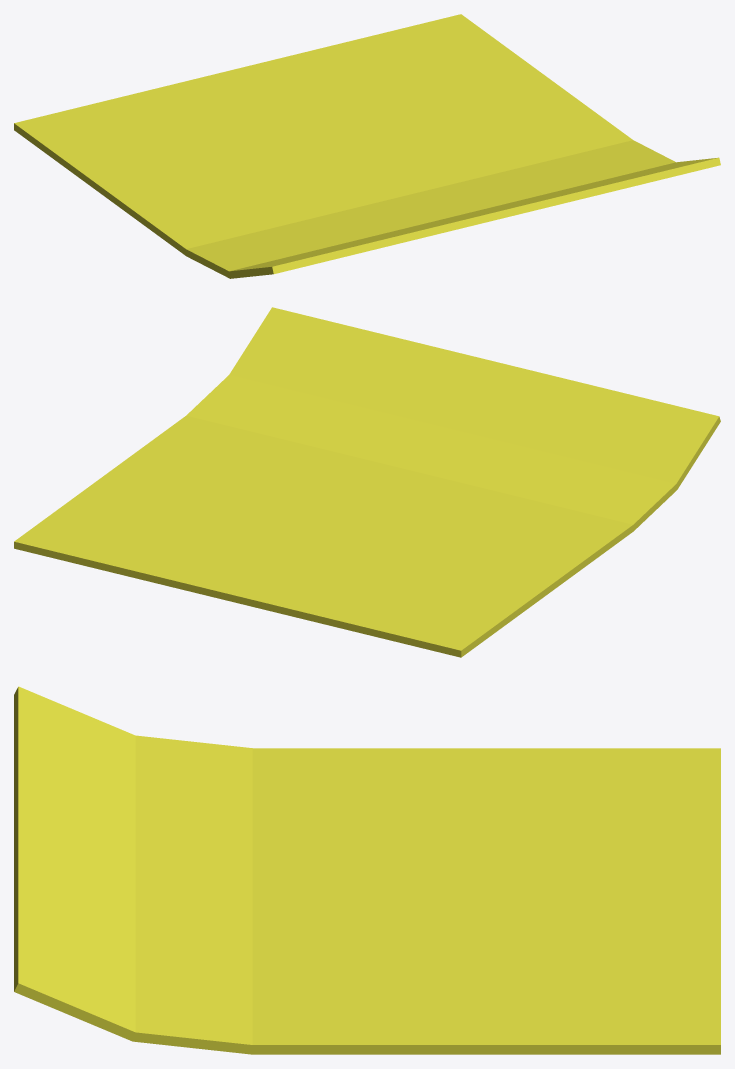
The model's file is Yellow Paper that is bent 30 degrees in the j hat direction.fbx.
3 renders of one model, top to bottom at view 1: azimuth 30°, elevation 25°; view 2: azimuth 150°, elevation 25°; view 3: azimuth 270°, elevation 25°, orthographic. The views are drawn at different scales.
Visible parts, largest first — view 1: Plane; view 2: Plane; view 3: Plane.
Part boxes in pixels (x1,y1,x2,y2): Plane: (14,14,720,278); Plane: (14,307,720,657); Plane: (14,686,720,1054).
Size of the model in its own units: 200 by 22.42 by 201.
